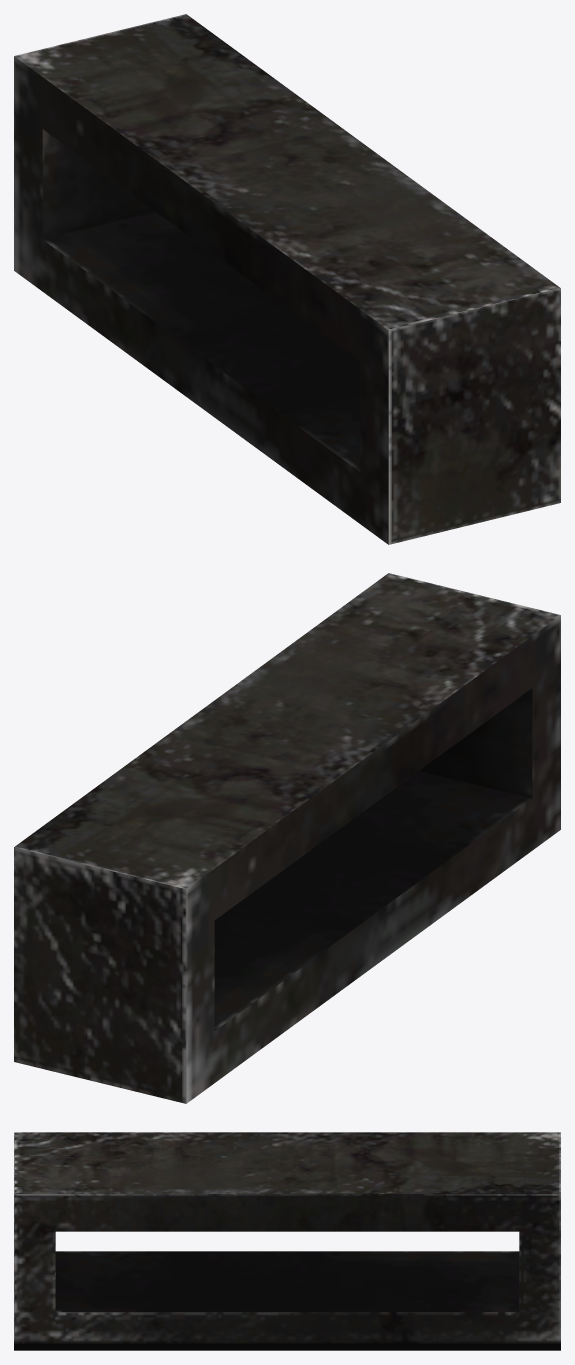
The model's file is ceiling_machinery_slot.dae.
3 renders of one model, top to bottom at view 1: azimuth 30°, elevation 25°; view 2: azimuth 150°, elevation 25°; view 3: azimuth 270°, elevation 25°, orthographic. The views are drawn at different scales.
Parts seen in each view (by area): view 1: slot; view 2: slot; view 3: slot.
Boxes of the visible parts, x1,y1,x2,y2 form: slot: (14, 14, 560, 544); slot: (14, 573, 560, 1103); slot: (14, 1132, 560, 1350).
Size of the model in its own units: 0.3255 by 0.3875 by 1.23.
